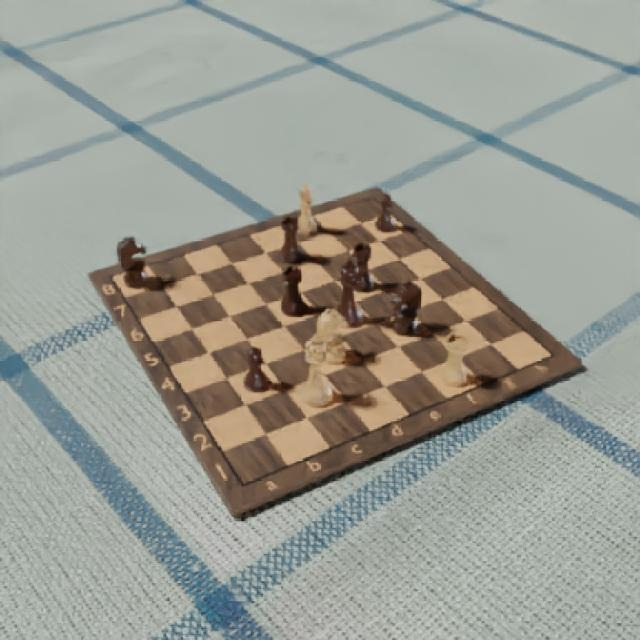black-king: (333, 257, 367, 330)
black-knight: (390, 278, 422, 338), (121, 229, 147, 294)
black-pawn: (245, 340, 266, 395), (377, 192, 393, 236)
black-rook: (350, 237, 373, 294), (282, 261, 302, 319), (280, 215, 299, 264)
white-king: (301, 332, 330, 411)
white-knight: (313, 308, 353, 368)
white-queen: (295, 183, 316, 241)
white-rook: (440, 335, 471, 391)
